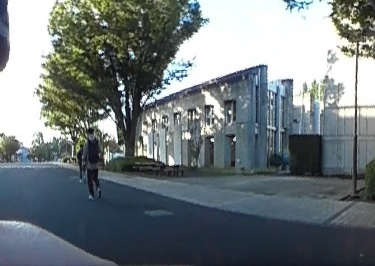person: (79, 126, 103, 200)
